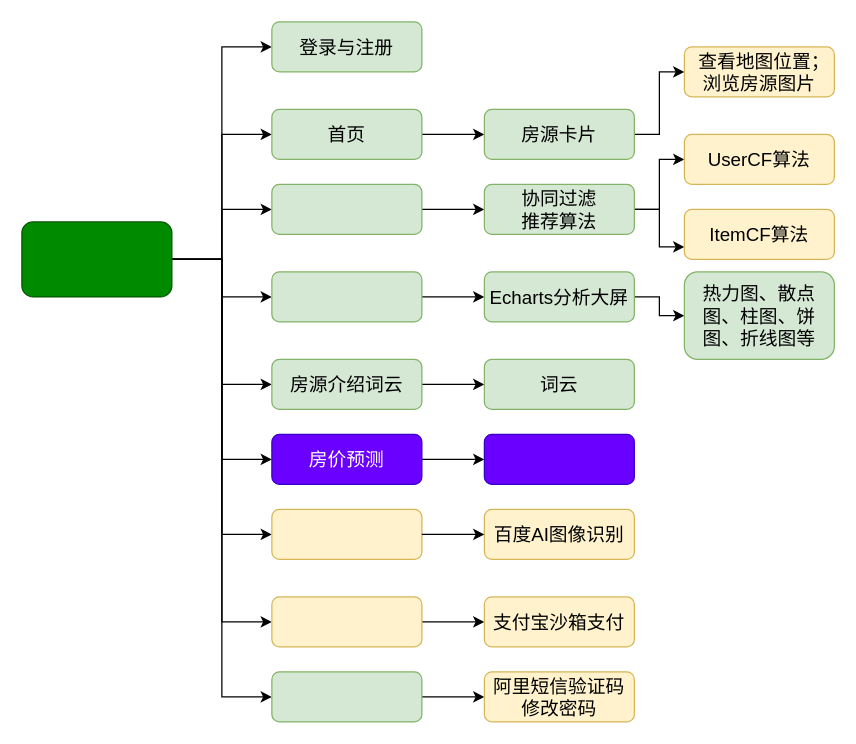
The diagram is 856 pixels wide and 744 high, and some of its shapes have lost their labels. The shapes that lost their labels are listed below. From the top down, each one's box as (x1, y1, x2, y2) in pixels, then its label:
(271, 183, 422, 234): 房源库
(21, 221, 172, 297): 二手房大数据 功能模块
(271, 271, 422, 322): 房源分析
(483, 433, 634, 484): 支持向量机
(271, 508, 422, 559): 身份证识别
(271, 596, 422, 647): 充值
(271, 671, 422, 722): 修改个人信息
